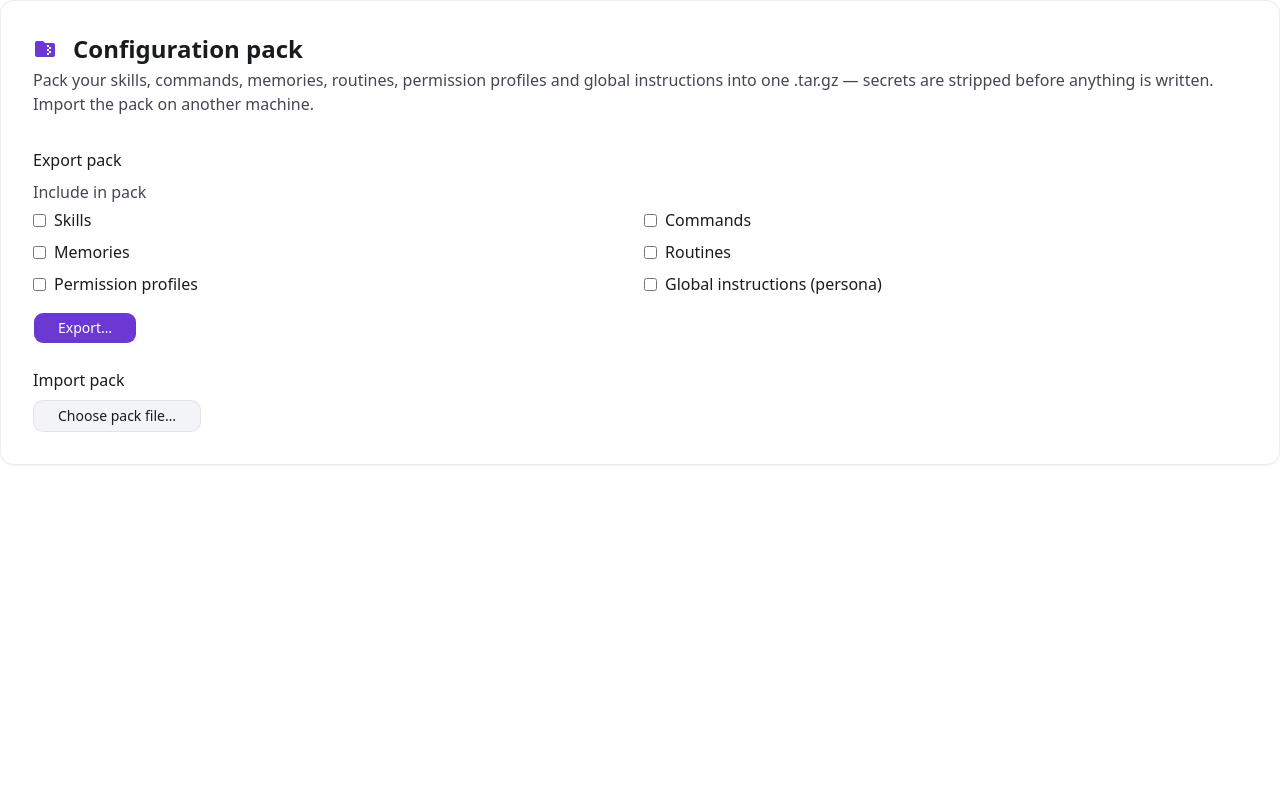
Test: PersonaPackSettings › export flow: save dialog + counts chips + stripped-secret note
The image size is (1280, 800).
Click the checkbox with test id "persona-pack-include-skills". click: coordinates (40, 220)
box: [33,214,46,227]
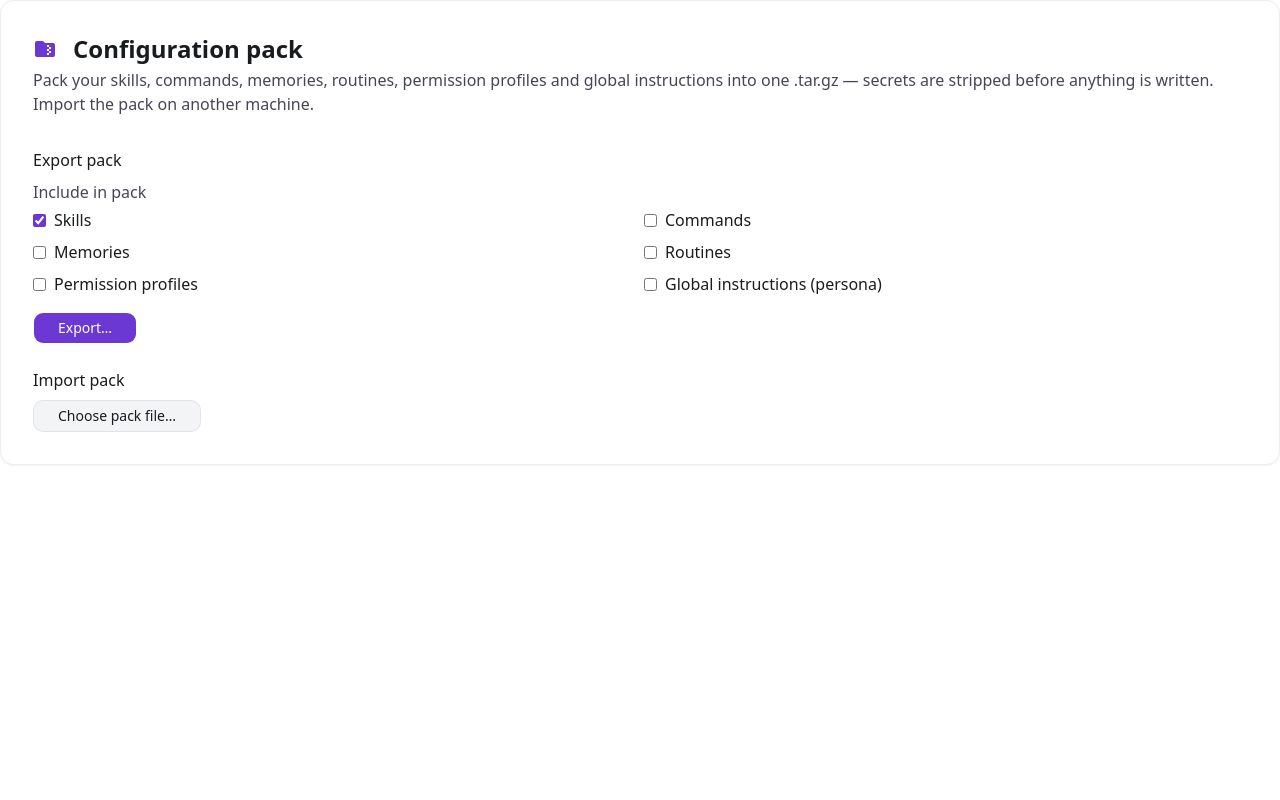
Click the button with test id "persona-pack-export". click: coordinates (85, 328)
box: [33,312,137,344]
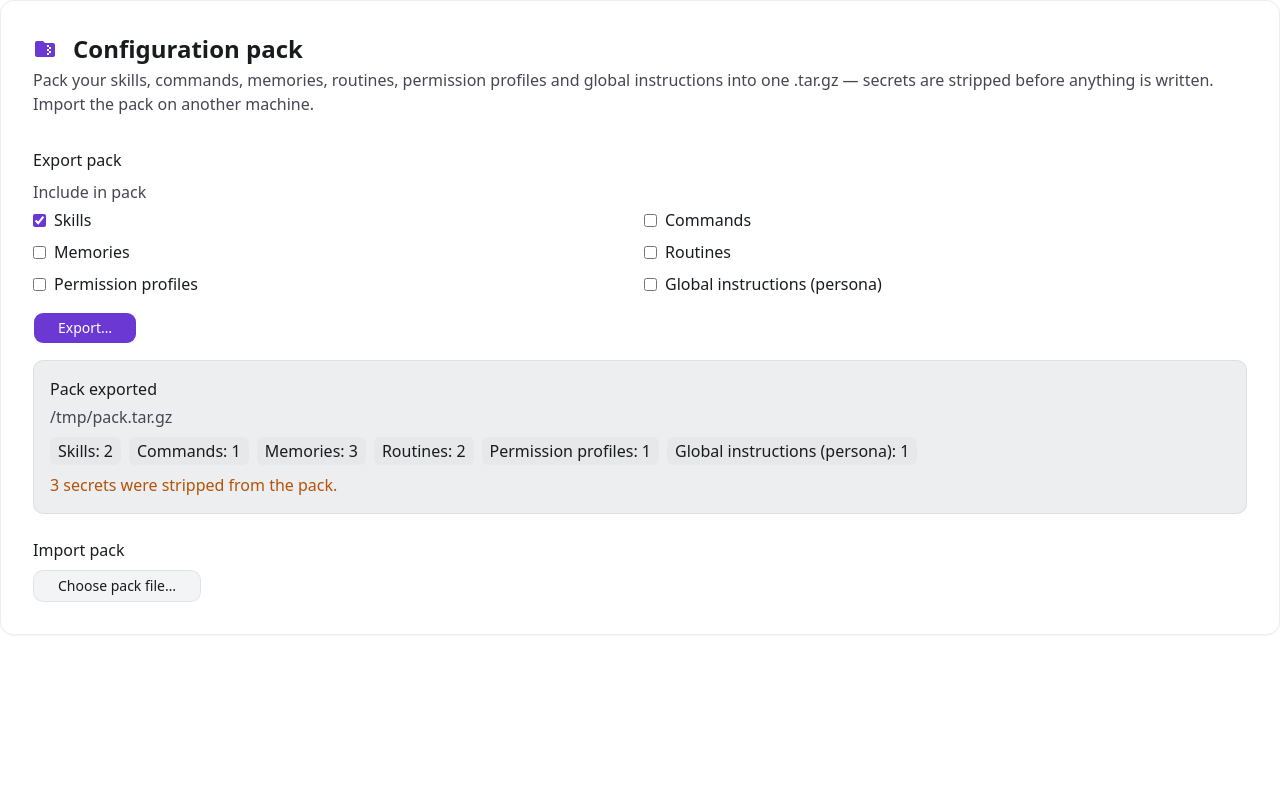
Expected: the message with test id "persona-pack-export-result" is shown, [33,360,1247,514]
Expected: the list item with test id "persona-pack-export-count-skills" reads "Skills: 2", [50,437,121,465]
Expected: the text with test id "persona-pack-stripped-note" shows "3 secrets were stripped", [50,474,337,496]
